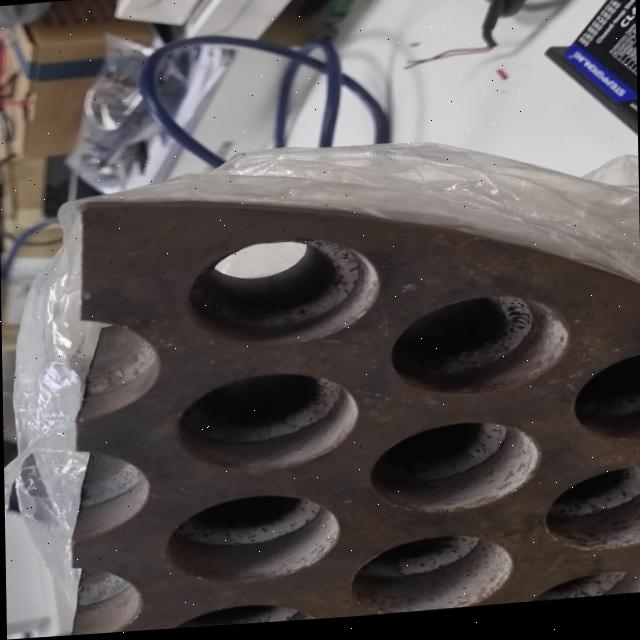Hole: (183, 237, 379, 352), (173, 371, 359, 481), (388, 296, 568, 405), (366, 423, 541, 524), (162, 493, 340, 591), (348, 537, 513, 621), (540, 474, 640, 564), (567, 359, 640, 454), (515, 576, 640, 609)
